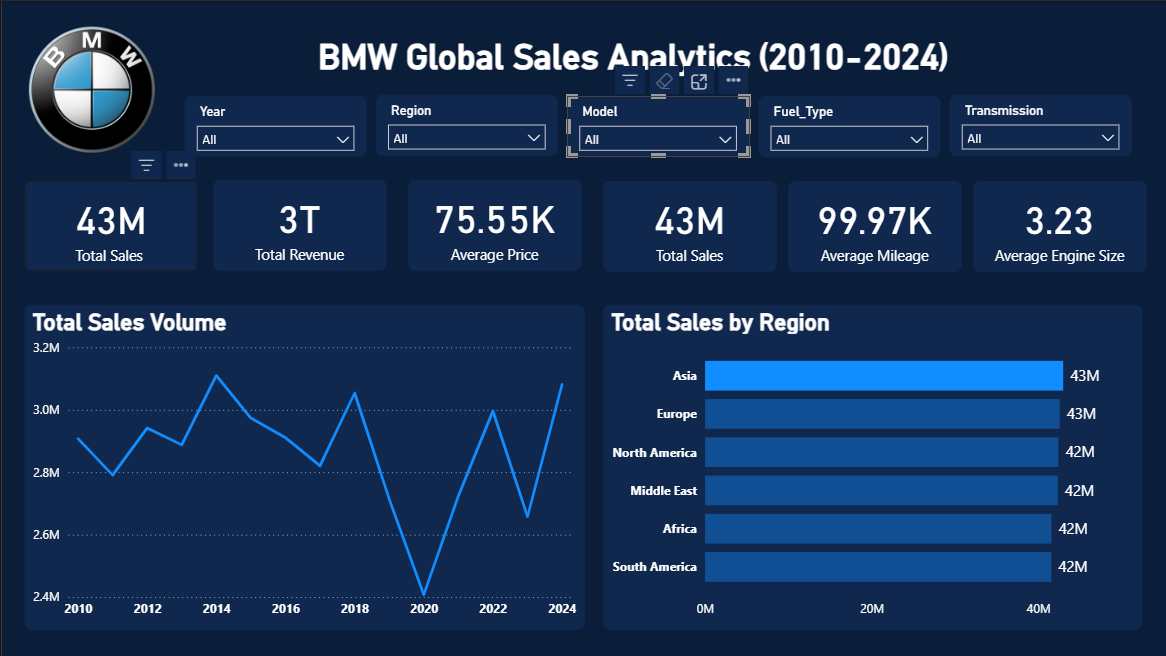

Layout of this report page (visuals, bound fields, positions):
{"tool":"powerbi","page":{"name":"Page 1","canvas":[1280,720],"ordinal":0},"visuals":[{"type":"image","box":[24.7,23.3,148.2,148.2],"z":0},{"type":"shape","title":"BMW Global Sales Analytics (2010-2024)","box":[300.4,22.9,784.2,74.8],"z":1000},{"type":"slicer","fields":{"Values":["BMW sales data (2010-2024) (1).Year"]},"box":[200.3,103.8,200.3,66.4],"z":2000},{"type":"slicer","fields":{"Values":["BMW sales data (2010-2024) (1).Region"]},"box":[410,102.7,200,67],"z":3000},{"type":"slicer","fields":{"Values":["BMW sales data (2010-2024) (1).Model"]},"box":[620,104.1,200,67],"z":4000},{"type":"slicer","fields":{"Values":["BMW sales data (2010-2024) (1).Fuel_Type"]},"box":[830,103.8,200.3,67.6],"z":5000},{"type":"slicer","fields":{"Values":["BMW sales data (2010-2024) (1).Transmission"]},"box":[1040,102.5,200.3,67.6],"z":6000},{"type":"card","fields":{"Values":["Sum(BMW sales data (2010-2024) (1).Sales_Volume)"]},"box":[24.1,197.9,190.6,98.9],"z":7000},{"type":"card","fields":{"Values":["Avg(BMW sales data (2010-2024) (1).Price_USD)"]},"box":[446.4,196.6,190,100.1],"z":8000},{"type":"card","fields":{"Values":["BMW sales data (2010-2024) (1).Total Revenue"]},"box":[231.6,196.6,190,100.1],"z":9000},{"type":"card","fields":{"Values":["BMW sales data (2010-2024) (1).Total Sales"]},"box":[659.9,197.9,190,100.1],"z":10000},{"type":"lineChart","title":"Total Sales Volume","fields":{"Category":["BMW sales data (2010-2024) (1).Year"],"Y":["Sum(BMW sales data (2010-2024) (1).Sales_Volume)"]},"box":[24.1,333,615.3,357.1],"z":11000},{"type":"barChart","title":"Total Sales by Region","fields":{"Category":["BMW sales data (2010-2024) (1).Region"],"Y":["Sum(BMW sales data (2010-2024) (1).Sales_Volume)"]},"box":[659.9,333,592.4,357.1],"z":12000},{"type":"card","fields":{"Values":["Avg(BMW sales data (2010-2024) (1).Mileage_KM)"]},"box":[863.1,197.6,190,100.2],"z":13000},{"type":"card","fields":{"Values":["Avg(BMW sales data (2010-2024) (1).Engine_Size_L)"]},"box":[1066.2,197.6,190,100.2],"z":14000}]}

Visuals, with their boxes on the page's 1280x720 design canvas (x1, y1, x2, y2). These are canvas units, not pixel positions in the 1166x656 screenshot, which may show the page scaled, cropped or inside an application window:
image: region(25, 23, 173, 172)
"BMW Global Sales Analytics (2010-2024)" shape: region(300, 23, 1085, 98)
slicer - BMW sales data (2010-2024) (1).Year: region(200, 104, 401, 170)
slicer - BMW sales data (2010-2024) (1).Region: region(410, 103, 610, 170)
slicer - BMW sales data (2010-2024) (1).Model: region(620, 104, 820, 171)
slicer - BMW sales data (2010-2024) (1).Fuel_Type: region(830, 104, 1030, 171)
slicer - BMW sales data (2010-2024) (1).Transmission: region(1040, 102, 1240, 170)
card - Sum(BMW sales data (2010-2024) (1).Sales_Volume): region(24, 198, 215, 297)
card - Avg(BMW sales data (2010-2024) (1).Price_USD): region(446, 197, 636, 297)
card - BMW sales data (2010-2024) (1).Total Revenue: region(232, 197, 422, 297)
card - BMW sales data (2010-2024) (1).Total Sales: region(660, 198, 850, 298)
"Total Sales Volume" lineChart: region(24, 333, 639, 690)
"Total Sales by Region" barChart: region(660, 333, 1252, 690)
card - Avg(BMW sales data (2010-2024) (1).Mileage_KM): region(863, 198, 1053, 298)
card - Avg(BMW sales data (2010-2024) (1).Engine_Size_L): region(1066, 198, 1256, 298)
